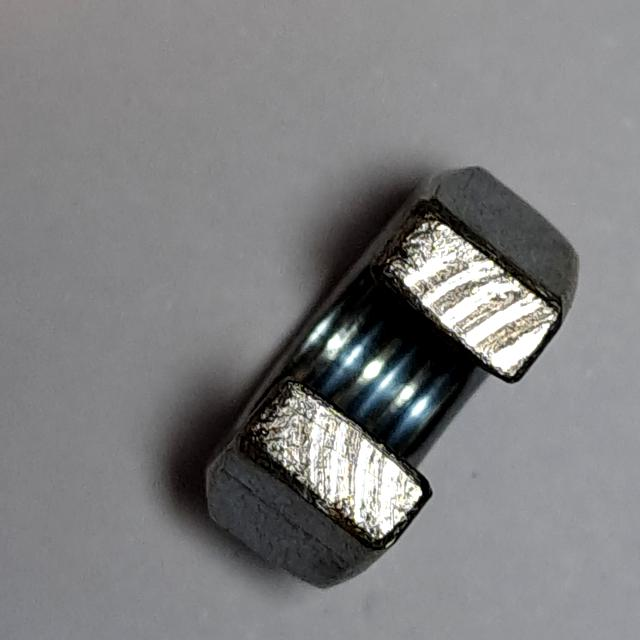Side-Fracture: (188, 149, 592, 609)
